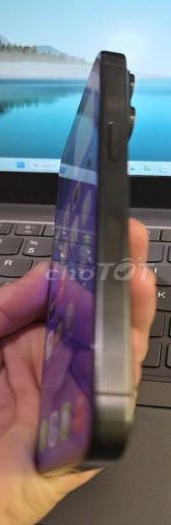scratch: (99, 56, 129, 75)
